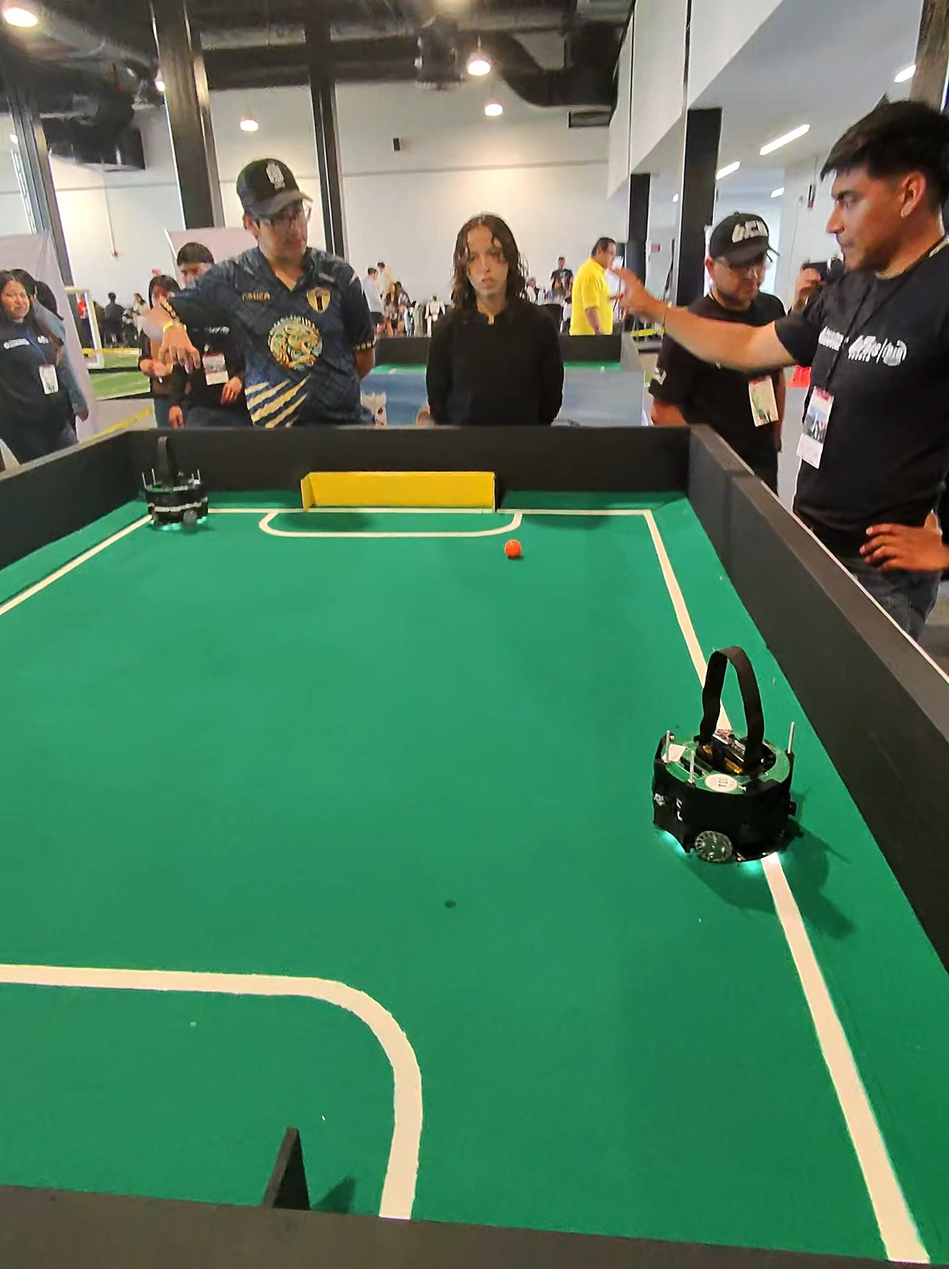Robot: (618, 626, 839, 894), (126, 423, 235, 550)
pelota: (490, 532, 544, 581)
